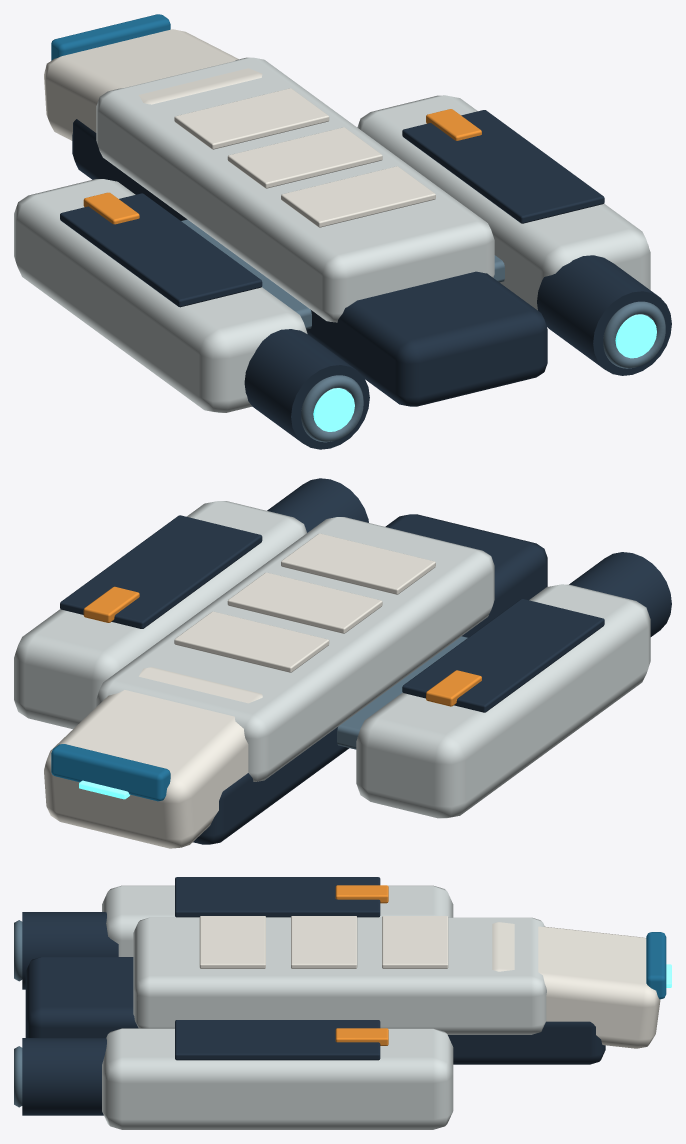
Rendered from ship-base.glb.
3 views of the same model, one above another, from view 1: azimuth 30°, elevation 25°; view 2: azimuth 150°, elevation 25°; view 3: azimuth 270°, elevation 25° (orthographic). The views are drawn at different scales.
Parts seen in each view (by area): view 1: upper-hull, service-pod--1, central-keel, service-pod-1, command-cabin, pod-inset--1, pod-inset-1, engine-1, engine--1, spine-panel-0, spine-panel-1, spine-panel-2 (+8 smaller); view 2: upper-hull, service-pod--1, command-cabin, service-pod-1, central-keel, pod-inset-1, pod-inset--1, spine-panel-1, spine-panel-0, spine-panel-2, cabin-visor, engine--1 (+4 smaller); view 3: upper-hull, service-pod-1, central-keel, command-cabin, pod-inset-1, pod-inset--1, engine-1, service-pod--1, engine--1, spine-panel-0, spine-panel-1, spine-panel-2 (+5 smaller).
Boxes of the visible parts, x1=… form: upper-hull: x1=96, y1=57, x2=494, y2=322; service-pod--1: x1=14, y1=179, x2=307, y2=412; central-keel: x1=72, y1=119, x2=547, y2=406; service-pod-1: x1=357, y1=95, x2=650, y2=310; command-cabin: x1=44, y1=29, x2=262, y2=140; pod-inset--1: x1=60, y1=193, x2=262, y2=307; pod-inset-1: x1=402, y1=110, x2=604, y2=223; engine-1: x1=537, y1=255, x2=671, y2=375; engine--1: x1=244, y1=329, x2=369, y2=449; spine-panel-0: x1=174, y1=88, x2=329, y2=149; spine-panel-1: x1=227, y1=127, x2=382, y2=188; spine-panel-2: x1=281, y1=166, x2=435, y2=227; upper-hull: x1=96, y1=517, x2=494, y2=781; service-pod--1: x1=356, y1=584, x2=650, y2=818; command-cabin: x1=44, y1=667, x2=262, y2=848; service-pod-1: x1=14, y1=501, x2=306, y2=729; central-keel: x1=193, y1=514, x2=547, y2=844; pod-inset-1: x1=60, y1=515, x2=262, y2=628; pod-inset--1: x1=402, y1=599, x2=604, y2=712; spine-panel-1: x1=227, y1=572, x2=382, y2=633; spine-panel-0: x1=174, y1=611, x2=329, y2=672; spine-panel-2: x1=281, y1=533, x2=435, y2=594; cabin-visor: x1=51, y1=744, x2=170, y2=801; engine--1: x1=569, y1=552, x2=671, y2=636; upper-hull: x1=133, y1=917, x2=546, y2=1034; service-pod-1: x1=102, y1=1028, x2=453, y2=1129; central-keel: x1=25, y1=957, x2=605, y2=1064; command-cabin: x1=492, y1=922, x2=660, y2=1048; pod-inset-1: x1=175, y1=1020, x2=380, y2=1060; pod-inset--1: x1=175, y1=877, x2=380, y2=917; engine-1: x1=22, y1=1038, x2=106, y2=1115; service-pod--1: x1=102, y1=885, x2=453, y2=956; engine--1: x1=22, y1=912, x2=118, y2=989; spine-panel-0: x1=382, y1=916, x2=448, y2=968; spine-panel-1: x1=291, y1=916, x2=357, y2=968; spine-panel-2: x1=199, y1=916, x2=265, y2=968.
Size of the model in its own units: 2.68 by 0.7275 by 3.97.
